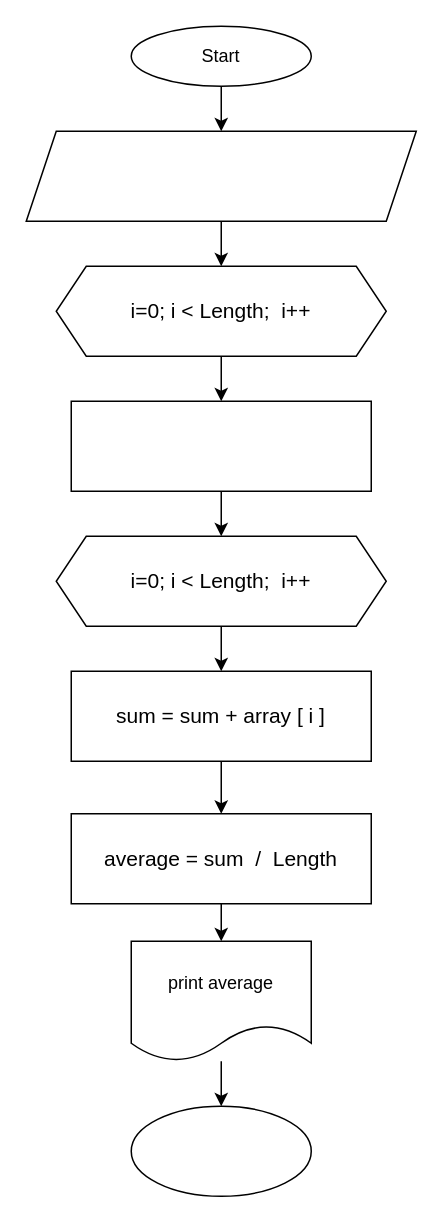
Some shapes in this 443 by 1223 pixel diagram are drawn without their labels. Here are the shapes that lost their labels. From the top down, the centre of each, then its label:
point 220,175: Задаем длину массива Length sum = 0 average = 0
point 220,445: Заполняем массив случайными цифрами
point 220,1150: End
